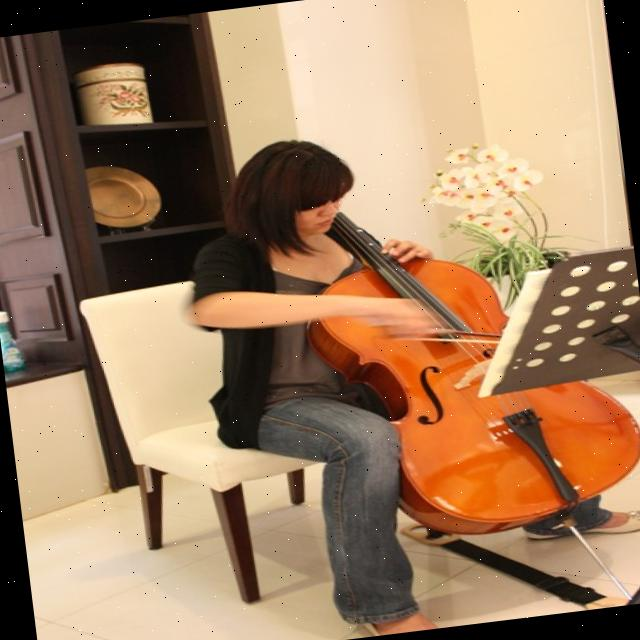cello: (282, 167, 640, 554)
